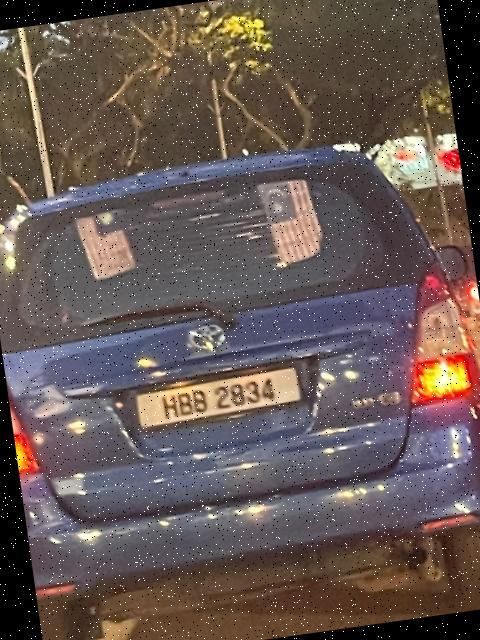License_Plate: (137, 369, 297, 432)
car: (1, 121, 480, 640)
